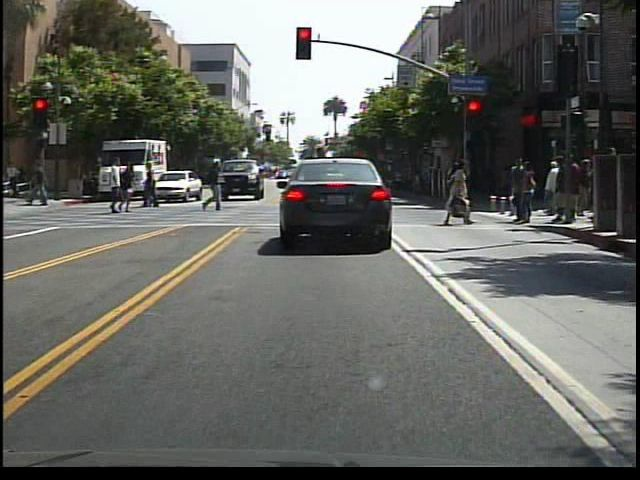person: (297, 131, 334, 235), (438, 159, 476, 227), (204, 160, 231, 216), (104, 158, 127, 219), (29, 161, 55, 213), (141, 160, 161, 213), (123, 164, 141, 214)
